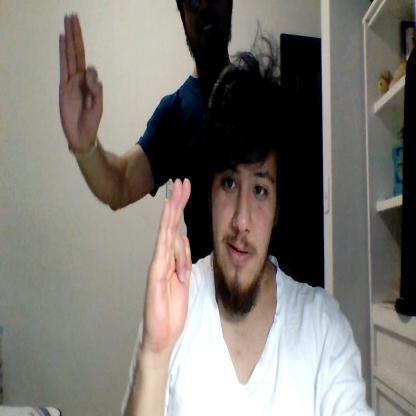F: (144, 178, 192, 346), (58, 10, 103, 148)
